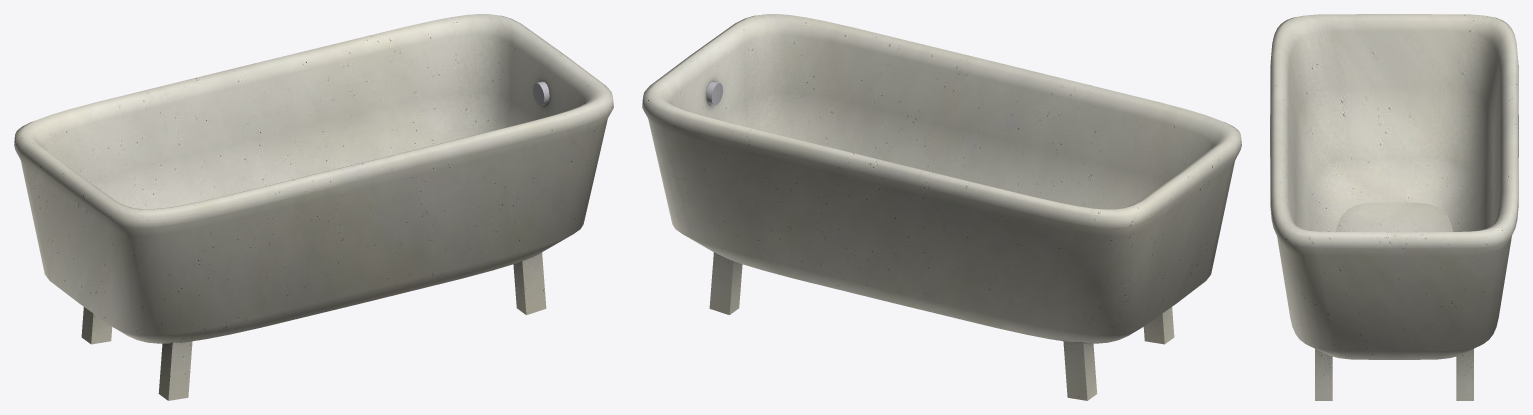
The model's file is bath_cast_web.glb.
3 renders of one model, left to right at view 1: azimuth 30°, elevation 25°; view 2: azimuth 150°, elevation 25°; view 3: azimuth 270°, elevation 25°, orthographic. The views are drawn at different scales.
Visible parts, largest first — view 1: BathCast_Body; view 2: BathCast_Body; view 3: BathCast_Body.
Boxes of the visible parts, x1=… form: BathCast_Body: x1=14, y1=14, x2=613, y2=400; BathCast_Body: x1=642, y1=14, x2=1241, y2=400; BathCast_Body: x1=1270, y1=14, x2=1518, y2=400.
Size of the model in its own units: 1.5 by 0.6084 by 0.704.
Materials: 2 (2 with a texture image).
